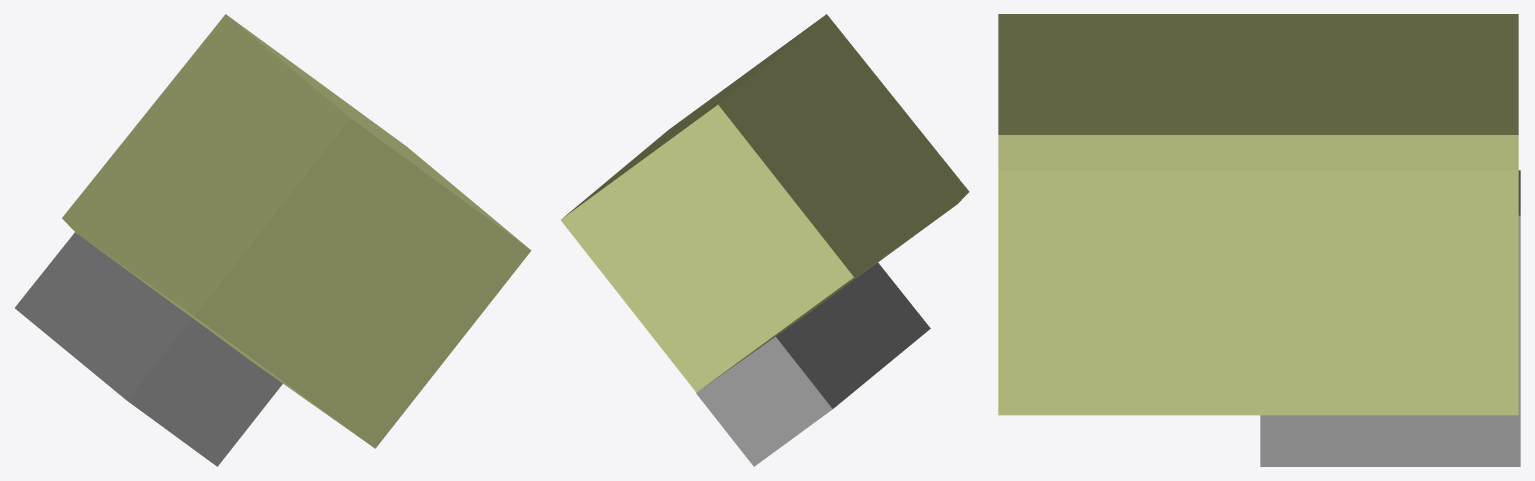
3 views of the same model, side by side, from view 1: azimuth 30°, elevation 25°; view 2: azimuth 150°, elevation 25°; view 3: azimuth 270°, elevation 25° (orthographic). The views are drawn at different scales.
Parts seen in each view (by area): view 1: 0_1_2_0_0_2_3_3_0_2_3; view 2: 0_1_2_0_0_2_3_3_0_2_3; view 3: 0_1_2_0_0_2_3_3_0_2_3.
Part boxes in pixels (x1,y1,x2,y2): 0_1_2_0_0_2_3_3_0_2_3: (15,14,531,466); 0_1_2_0_0_2_3_3_0_2_3: (561,14,969,466); 0_1_2_0_0_2_3_3_0_2_3: (998,14,1520,466).
Size of the model in its own units: 6.42 by 6.64 by 6.02.
